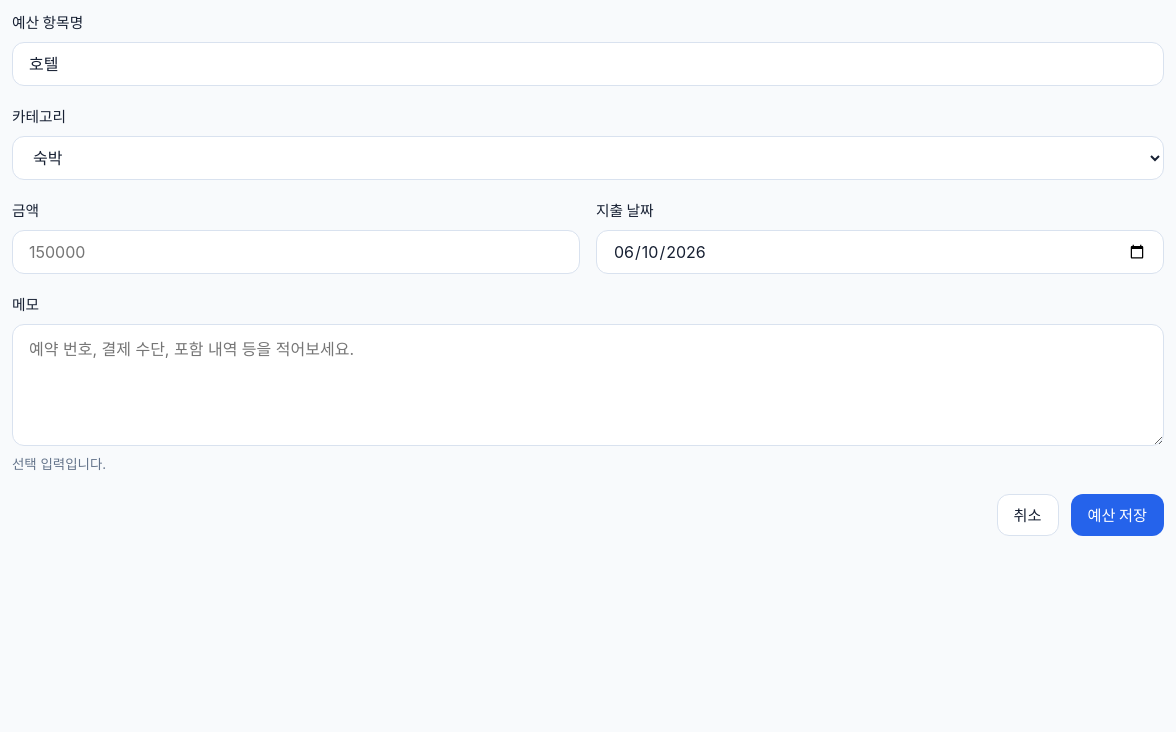
Test: BudgetForm › shows exact amount validation and blocks submit for non-positive values
Type "0" into the number field with test id "budget-amount-input" at coordinates (296, 252), box [12, 230, 580, 274]
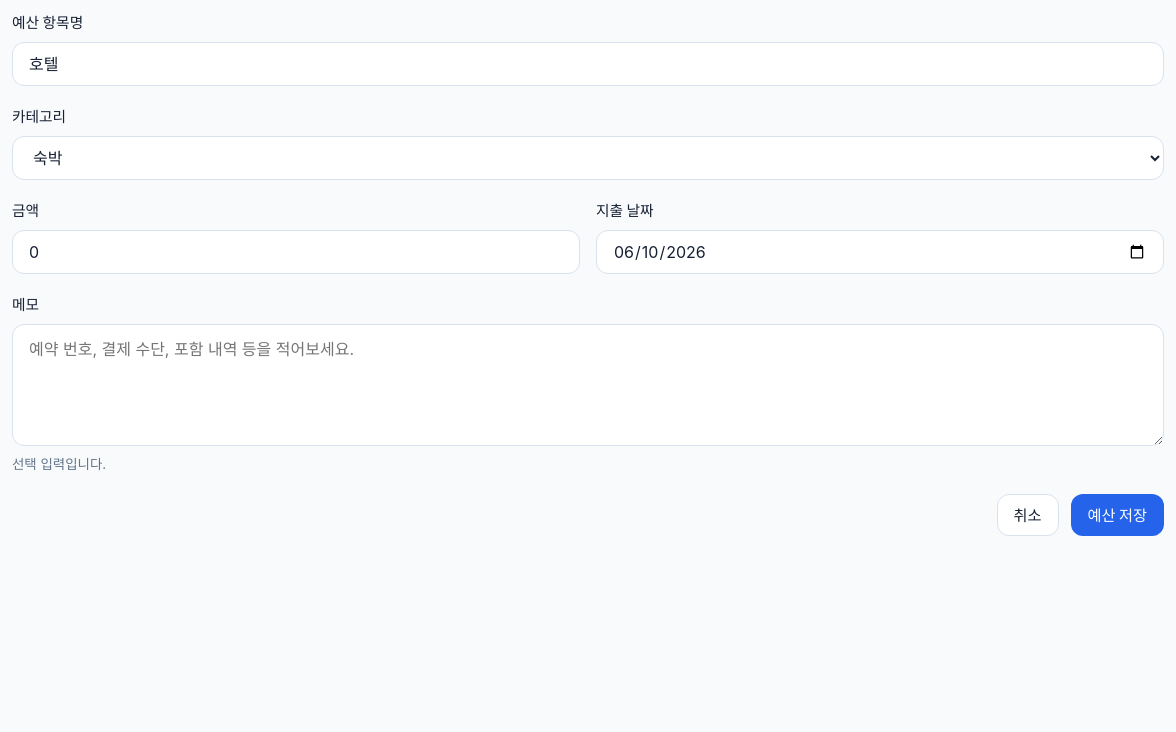
Submit the form
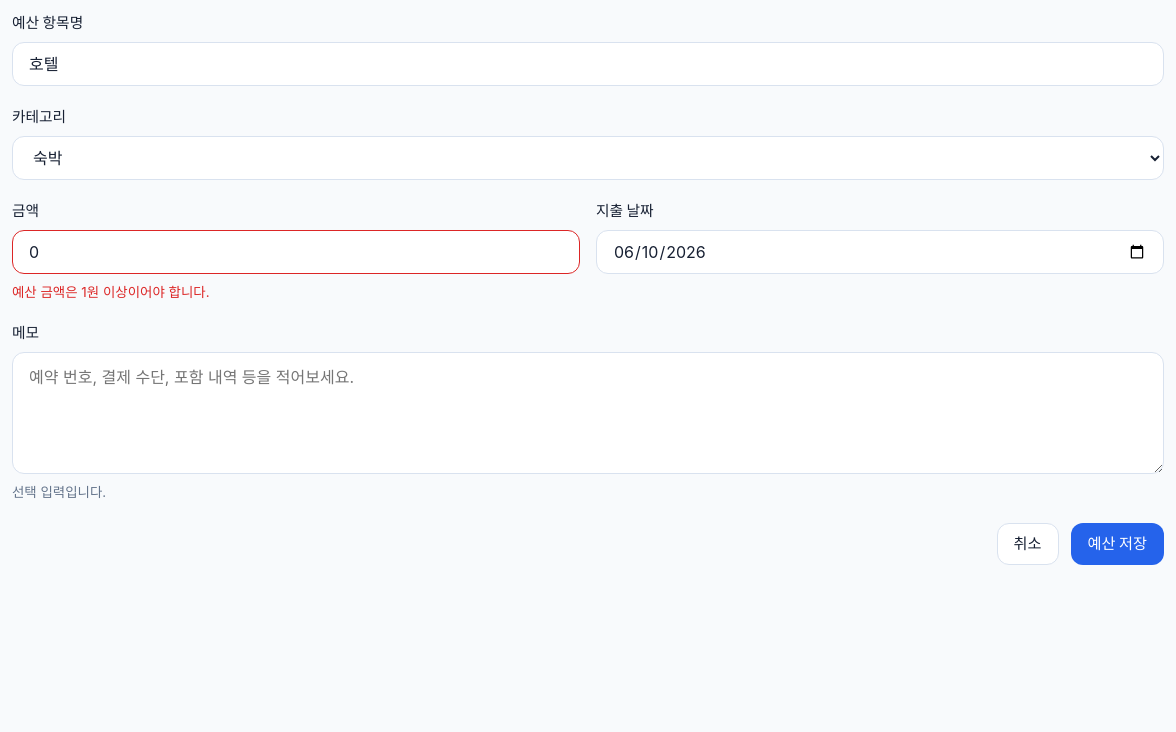
Check: the form shows "예산 금액은 1원 이상이어야 합니다.", box [12, 284, 210, 300]
